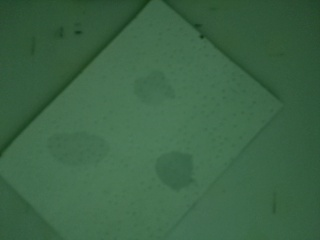Water_detected: (165, 150, 195, 189), (144, 75, 168, 105), (70, 147, 103, 168)
